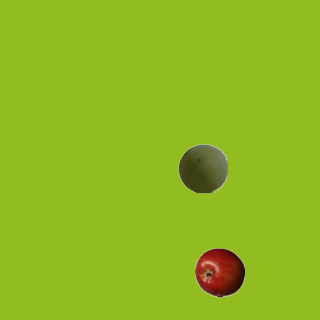Apple Braeburn: (194, 247, 244, 297)
Grape White 4: (177, 143, 227, 193)
